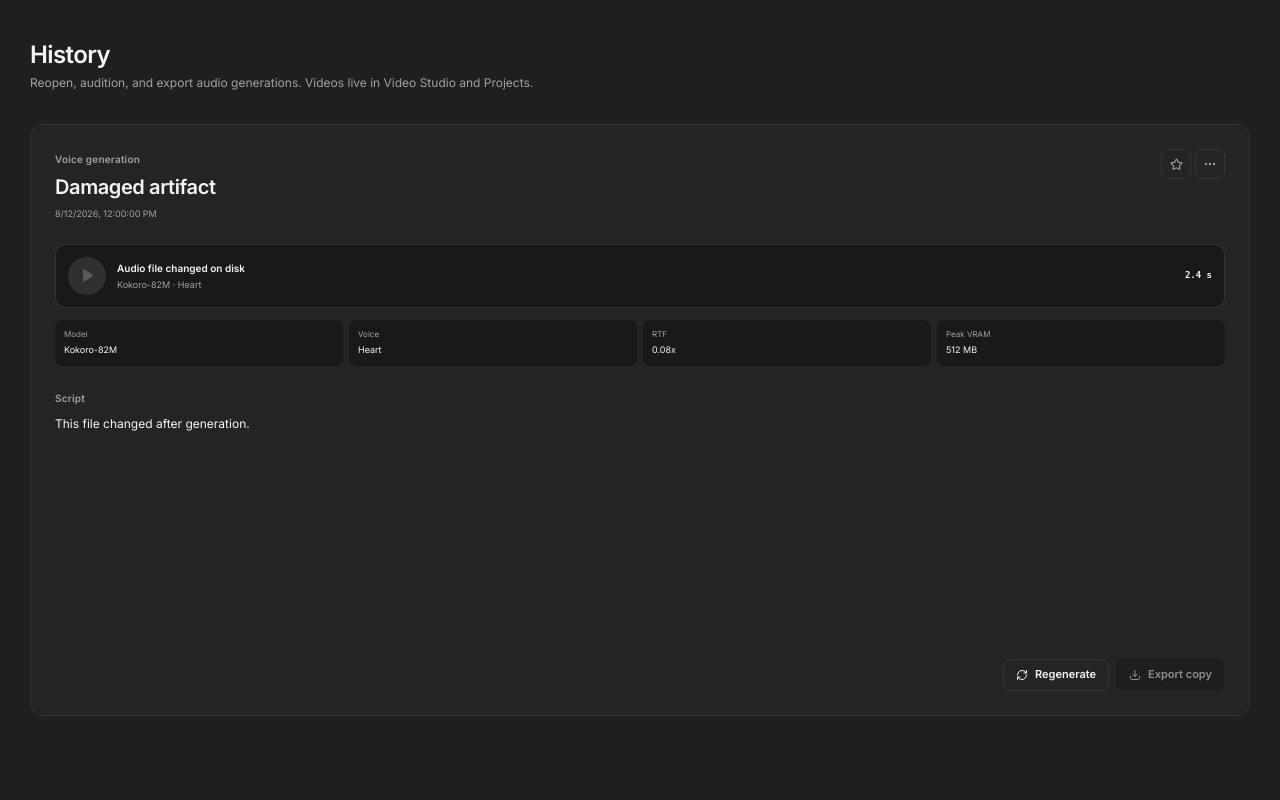
History artifact integrity › explains a modified artifact and disables playback and reveal
Expected: the text "Audio file changed on disk" is shown, [117,262,245,274]
Expected: the button named "Audio file changed on disk" is disabled, [68,257,106,295]
Click the button named "More actions for Damaged artifact". click: [1210, 164]
box: [1195,149,1225,179]
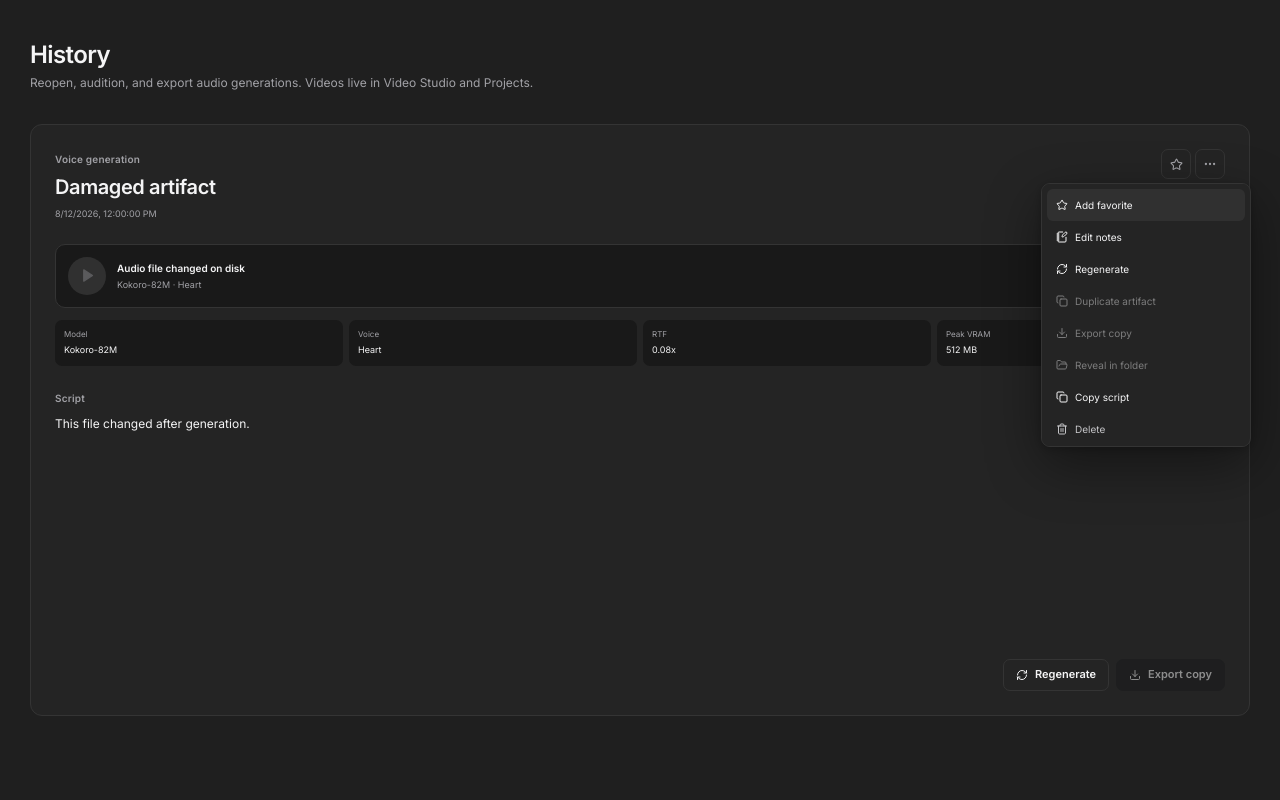
Expected: the menu item "Duplicate artifact" is disabled, [1047,285,1245,317]
Expected: the menu item "Export copy" is disabled, [1047,317,1245,349]
Expected: the menu item "Reveal in folder" is disabled, [1047,349,1245,381]
